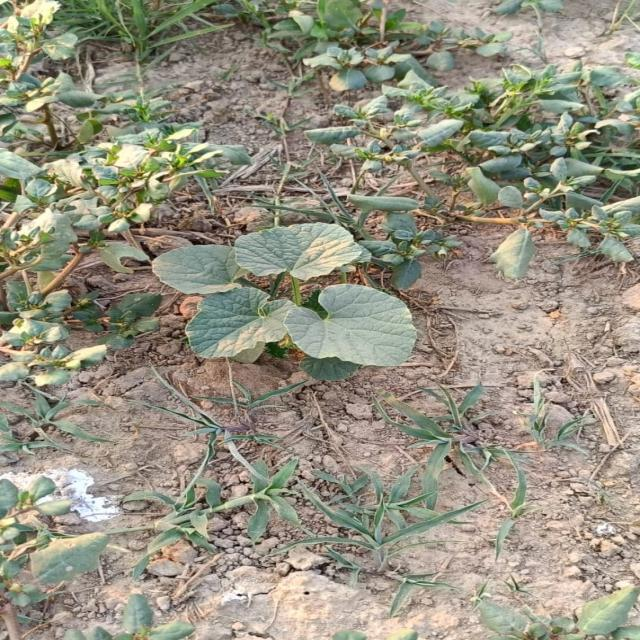plant: (153, 222, 416, 379)
